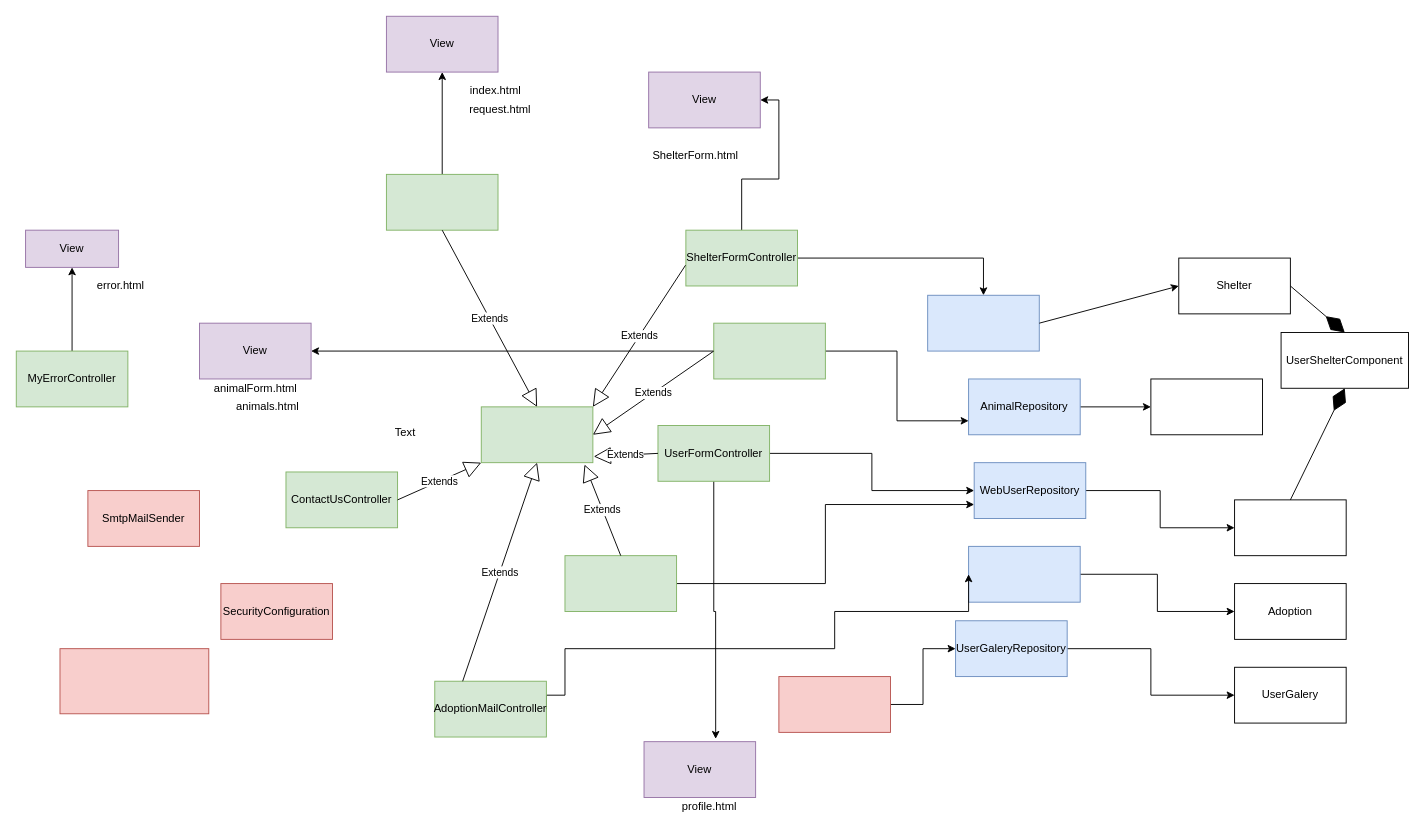
Some shapes in this 1425 by 832 pixel diagram are drawn without their labels. Each missing label, with the box of its shape:
AdoptionRepository: (968, 545, 1080, 602)
Animal: (1150, 378, 1262, 435)
AnimalFormController: (713, 322, 825, 379)
CSRFHandlerConfiguration: (59, 648, 209, 714)
ImageService: (778, 676, 890, 732)
MainController: (385, 173, 498, 230)
ModelAttributeController: (480, 406, 593, 463)
ProfileController: (564, 555, 677, 611)
ShelterRepository: (927, 294, 1039, 351)
WebUser: (1234, 499, 1346, 556)
